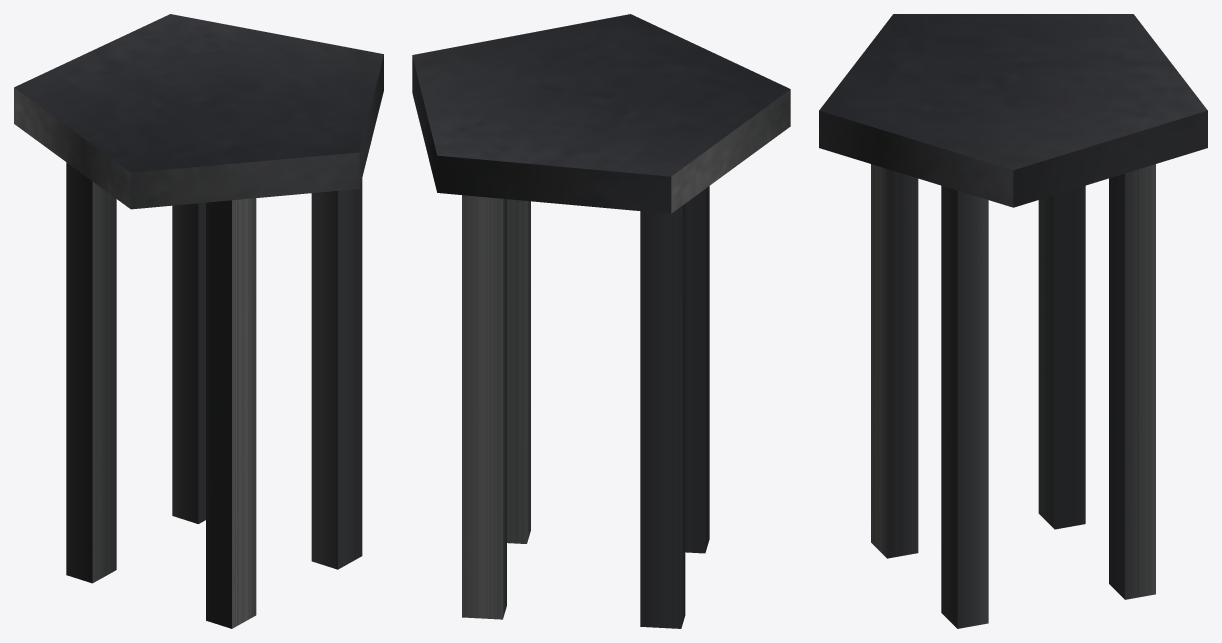
Rendered from stool.FBX.
3 views of the same model, side by side, from view 1: azimuth 30°, elevation 25°; view 2: azimuth 150°, elevation 25°; view 3: azimuth 270°, elevation 25° (orthographic). The views are drawn at different scales.
Parts seen in each view (by area): view 1: Box004, Cylinder001; view 2: Cylinder001, Box004; view 3: Box004, Cylinder001.
Boxes of the visible parts, x1,y1,x2,y2 form: Box004: (66,162,362,628); Cylinder001: (14,14,383,209); Cylinder001: (412,14,790,213); Box004: (462,186,709,628); Box004: (871,164,1155,628); Cylinder001: (819,14,1207,207).
Bounding box in the file's own units: 41.82 × 60.3 × 43.97.
1 material, 1 textured.
